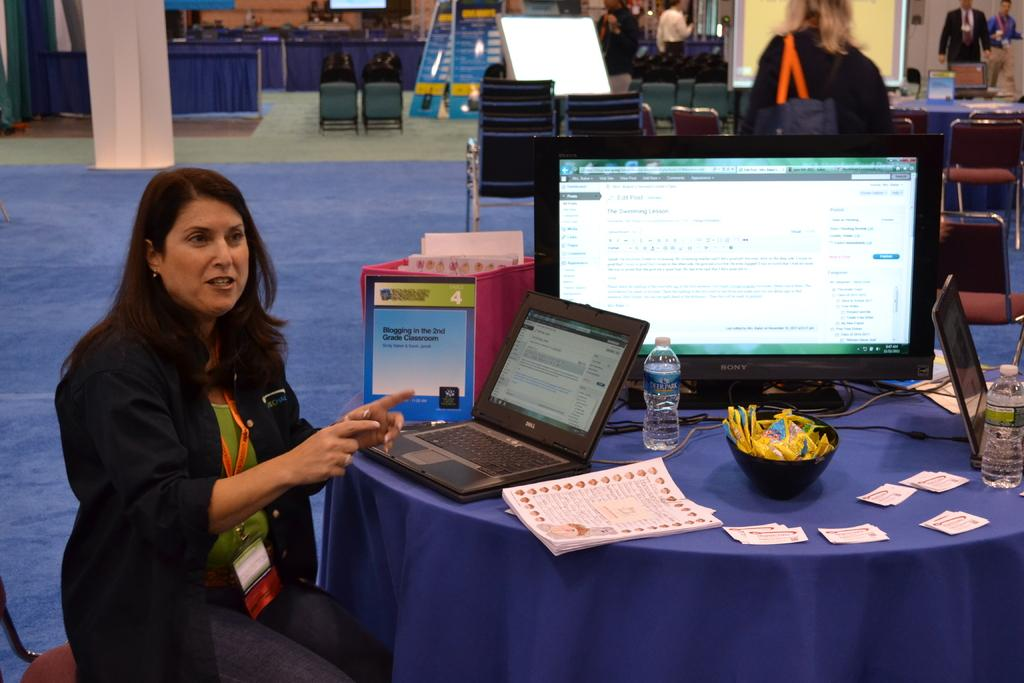Computer-monitor: (519, 133, 957, 431), (330, 0, 390, 17)
Laptop: (380, 300, 638, 508)
